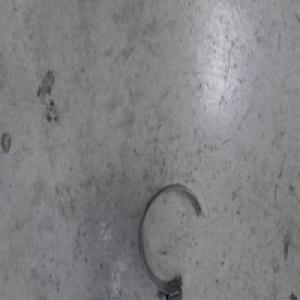AdjustableClamp: (138, 182, 206, 294)
